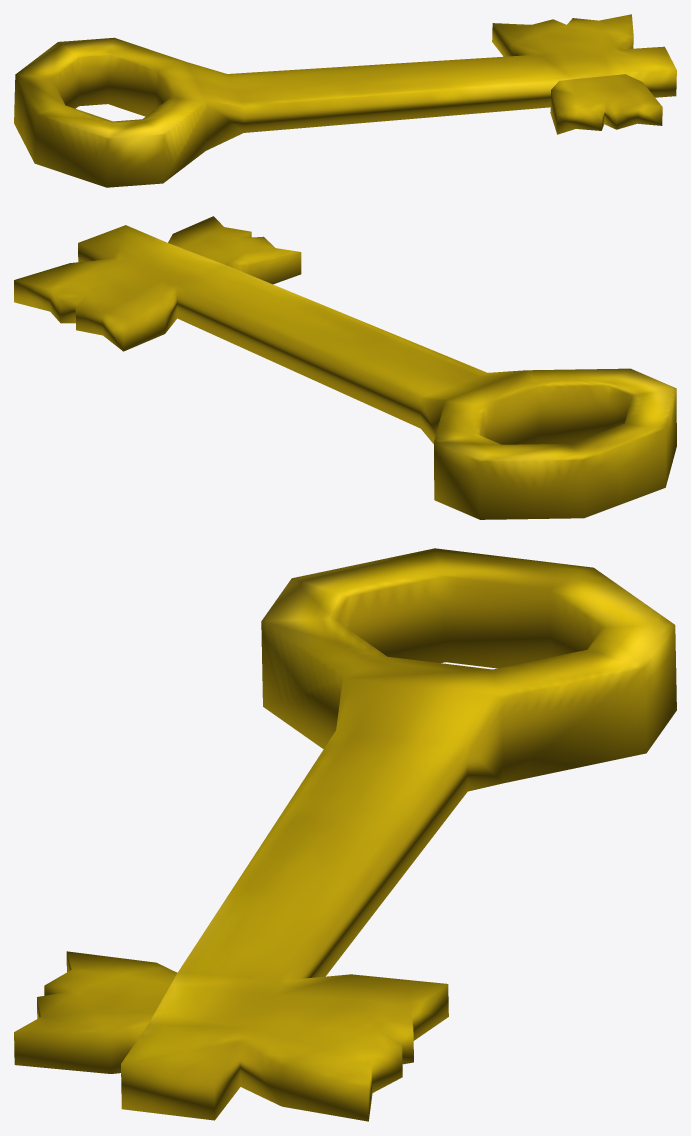
Rendered from key_003.fbx.
The picture shows the model from 3 angles, top to bottom: view 1: azimuth 30°, elevation 25°; view 2: azimuth 150°, elevation 25°; view 3: azimuth 270°, elevation 25°; orthographic projection. The views are drawn at different scales.
Visible parts, largest first — view 1: key_003; view 2: key_003; view 3: key_003.
Part boxes in pixels (bbox=[...]): key_003: bbox=[14, 14, 676, 187]; key_003: bbox=[14, 216, 676, 519]; key_003: bbox=[14, 548, 676, 1121].
Bounding box in the file's own units: 13.15 × 1.17 × 7.45.
